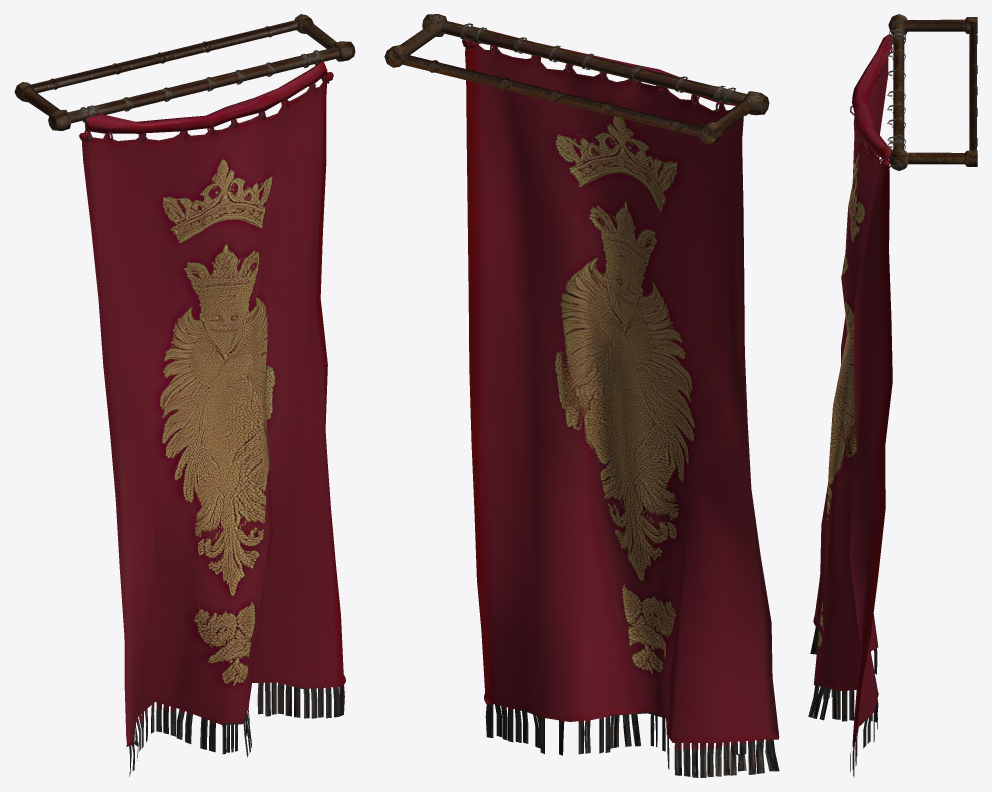
File: arazzo.fbx
The picture shows the model from 3 angles, left to right: view 1: azimuth 30°, elevation 25°; view 2: azimuth 150°, elevation 25°; view 3: azimuth 270°, elevation 25°; orthographic projection. The views are drawn at different scales.
Parts seen in each view (by area): view 1: tripo_node_a541d76c; view 2: tripo_node_a541d76c; view 3: tripo_node_a541d76c.
Boxes of the visible parts, x1,y1,x2,y2 form: tripo_node_a541d76c: (14,14,355,776); tripo_node_a541d76c: (384,14,779,777); tripo_node_a541d76c: (808,14,977,777).
Bounding box in the file's own units: 0.4829 × 0.9995 × 0.2407.
Materials: 1 (1 with a texture image).
